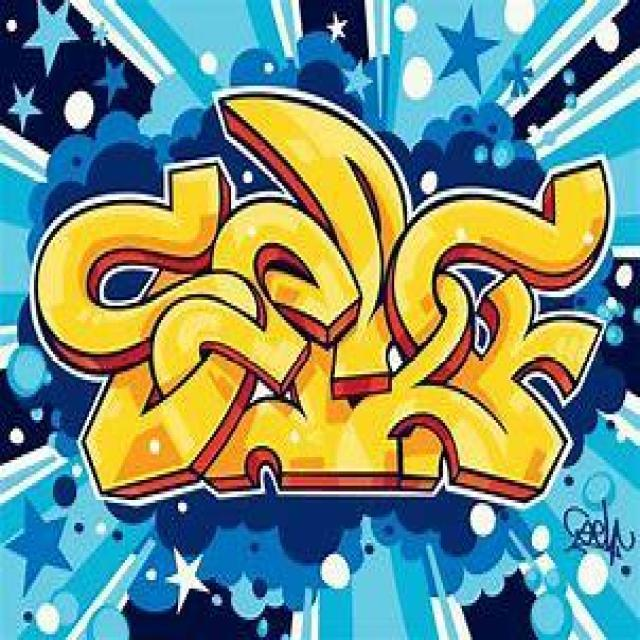nonspitting: (30, 82, 614, 512)
